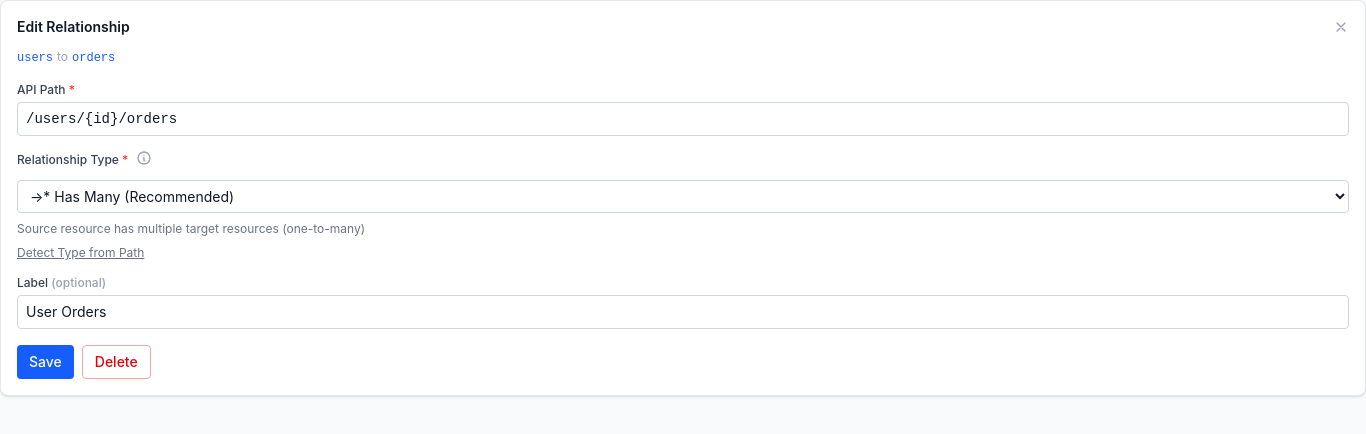
Test: EdgeDetail › shows validation error when path is cleared
The width and height of the screenshot is (1366, 434).
Clear the field with test id "edge-path-input": (683, 119) [17,102,1349,136]
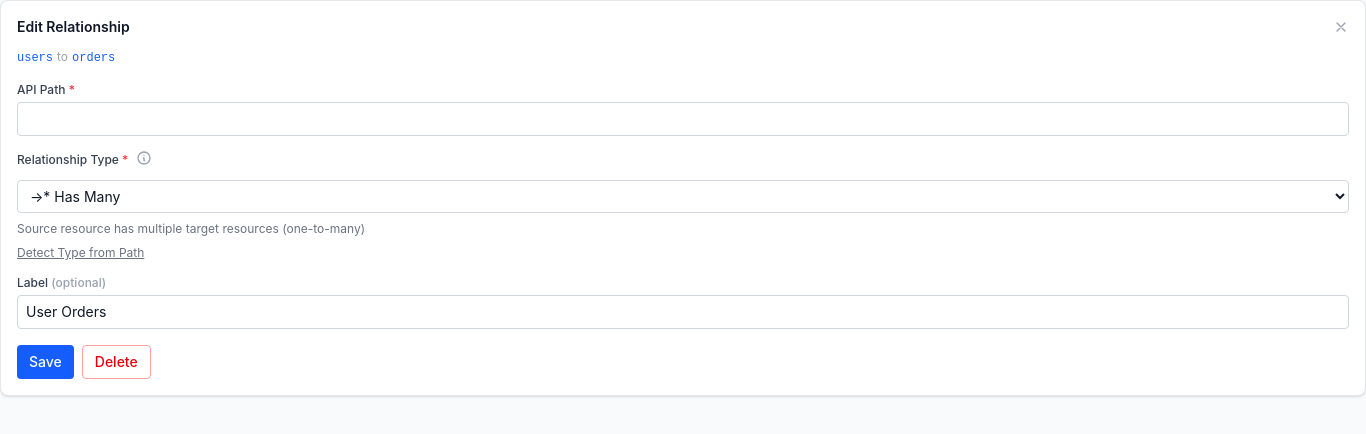
Click the button with test id "edge-detail-confirm": click(45, 362) [17,345,74,379]
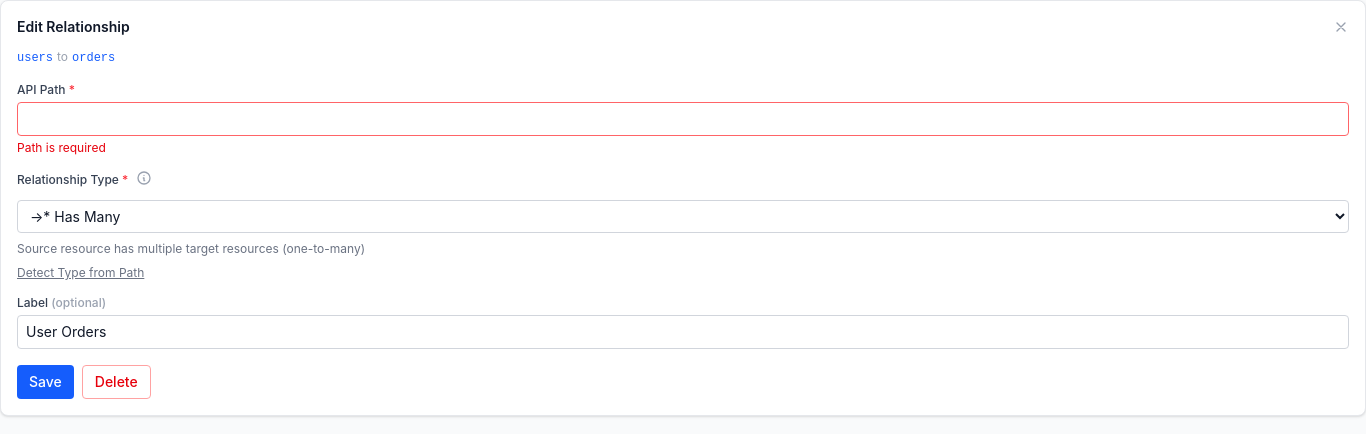
Check: the text "Path is required" is shown, box [17,140,106,155]
